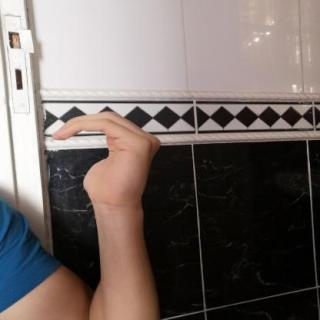HAA: (40, 105, 176, 214)
